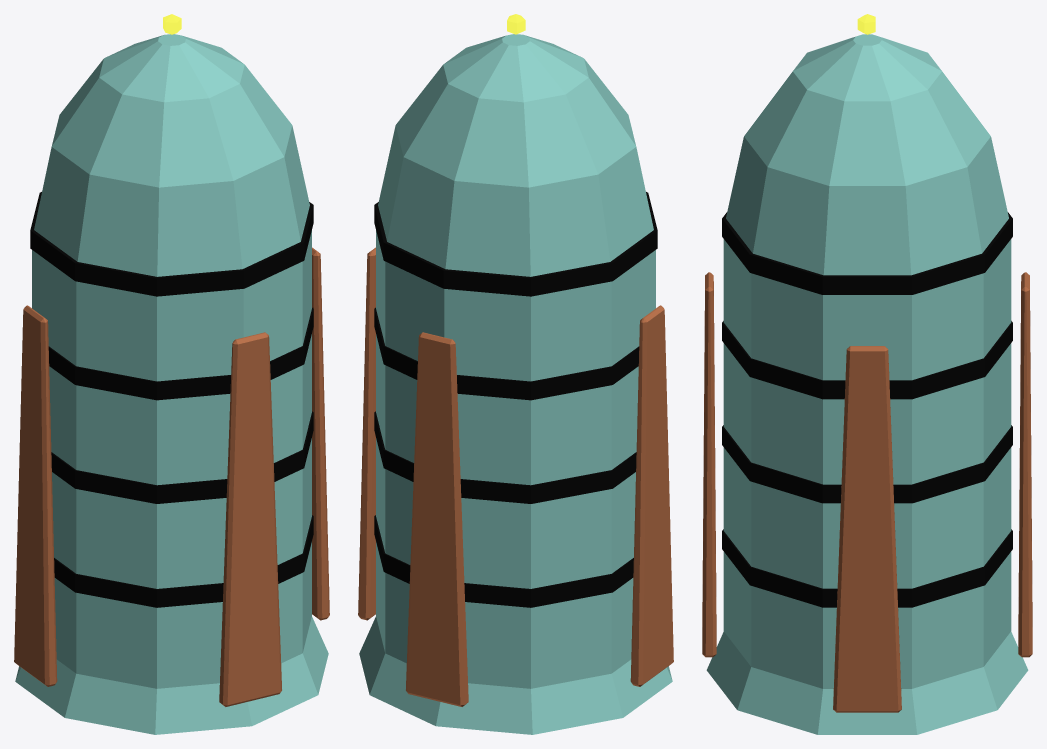
File: City_Capsule.fbx
3 renders of one model, left to right at view 1: azimuth 30°, elevation 25°; view 2: azimuth 150°, elevation 25°; view 3: azimuth 270°, elevation 25°, orthographic.
Parts seen in each view (by area): view 1: City_Capsule; view 2: City_Capsule; view 3: City_Capsule.
Boxes of the visible parts, box(x1,y1,x2,y2) form: City_Capsule: box(14, 14, 329, 734); City_Capsule: box(358, 14, 673, 734); City_Capsule: box(702, 14, 1032, 734).
Size of the model in its own units: 11.5 by 11.5 by 25.2.
